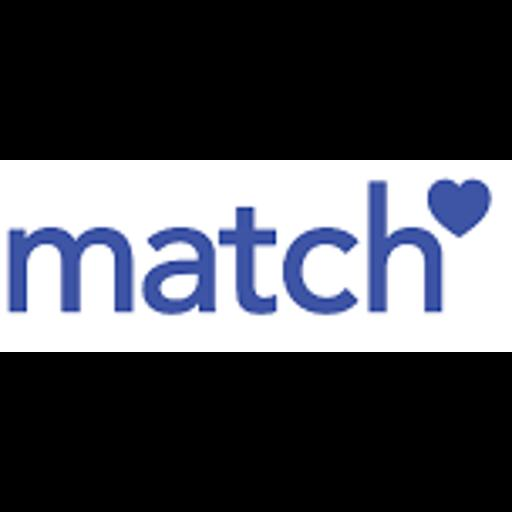Match: (0, 160, 512, 352)
